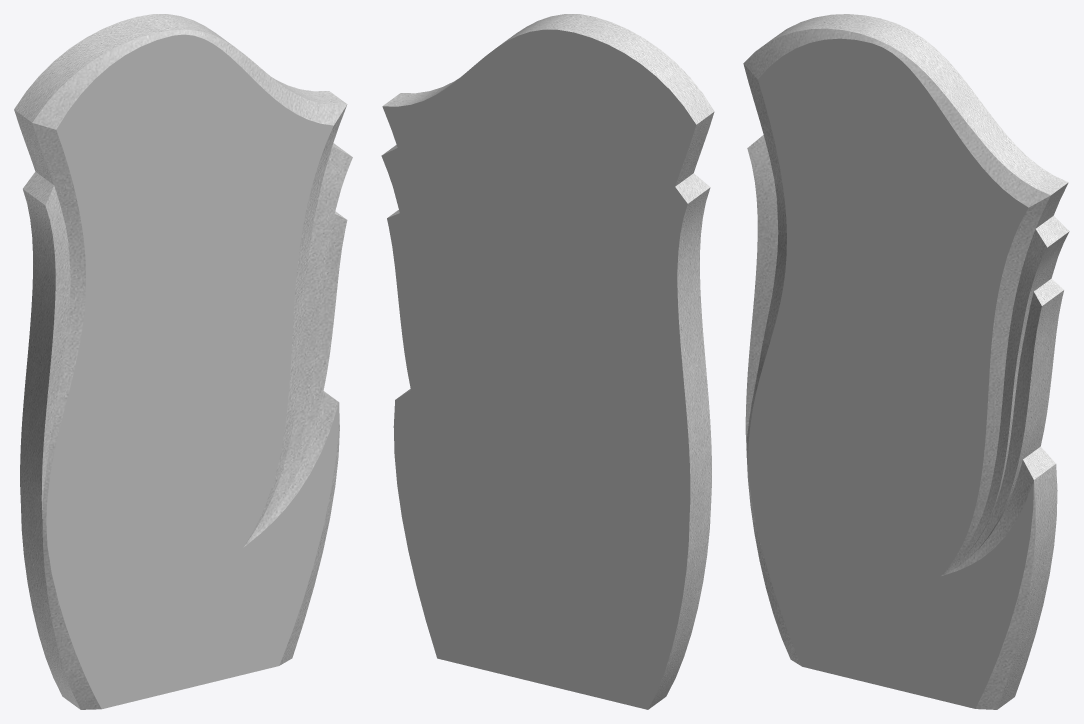
The model's file is cnd856fb1bf3_tkf.glb.
3 renders of one model, left to right at view 1: azimuth 30°, elevation 25°; view 2: azimuth 150°, elevation 25°; view 3: azimuth 330°, elevation 25°, orthographic. The views are drawn at different scales.
Parts seen in each view (by area): view 1: Pam-v-163, Pam-v-163_2_notexture; view 2: Pam-v-163, Pam-v-163_2_notexture; view 3: Pam-v-163, Pam-v-163_2_notexture.
Part boxes in pixels (bbox=[...]): Pam-v-163: bbox=[46, 34, 338, 708]; Pam-v-163_2_notexture: bbox=[14, 14, 352, 709]; Pam-v-163: bbox=[381, 29, 696, 709]; Pam-v-163_2_notexture: bbox=[383, 14, 714, 709]; Pam-v-163: bbox=[748, 38, 1033, 708]; Pam-v-163_2_notexture: bbox=[743, 14, 1069, 709].
Bounding box in the file's own units: 0.4 × 0.8 × 0.05.
1 material, 1 textured.
